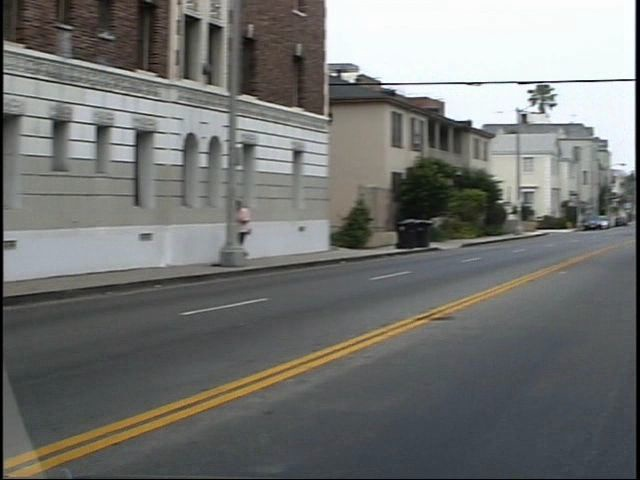person: (241, 189, 276, 264)
